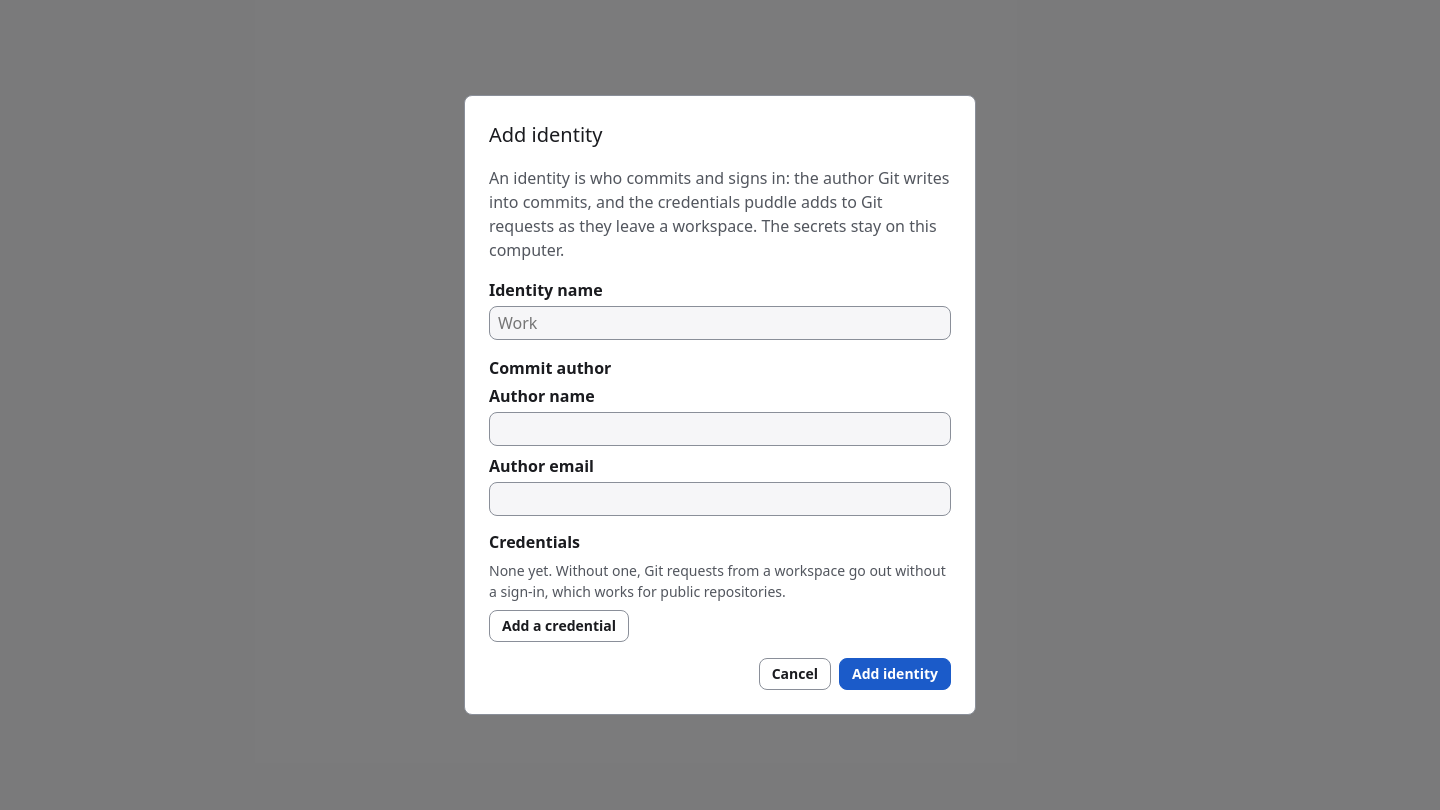
Test case: a token pasted into the dialog › is taken back when its credential is removed again
The width and height of the screenshot is (1440, 810).
Click the button "Add a credential" at (559, 626), box [489,610,629,642]
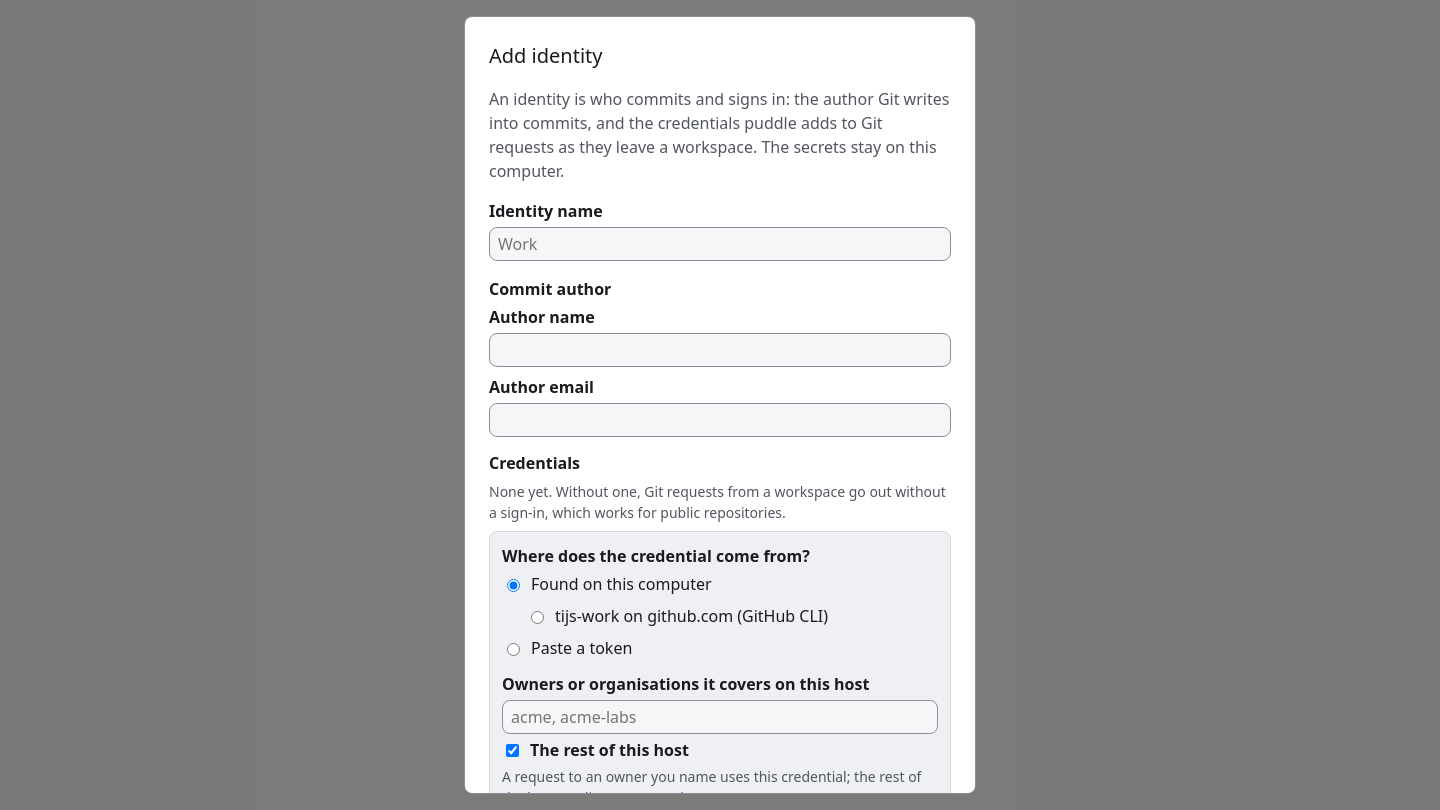
Click the radio button labelled "Paste a token" at (514, 650), box [507,643,520,656]
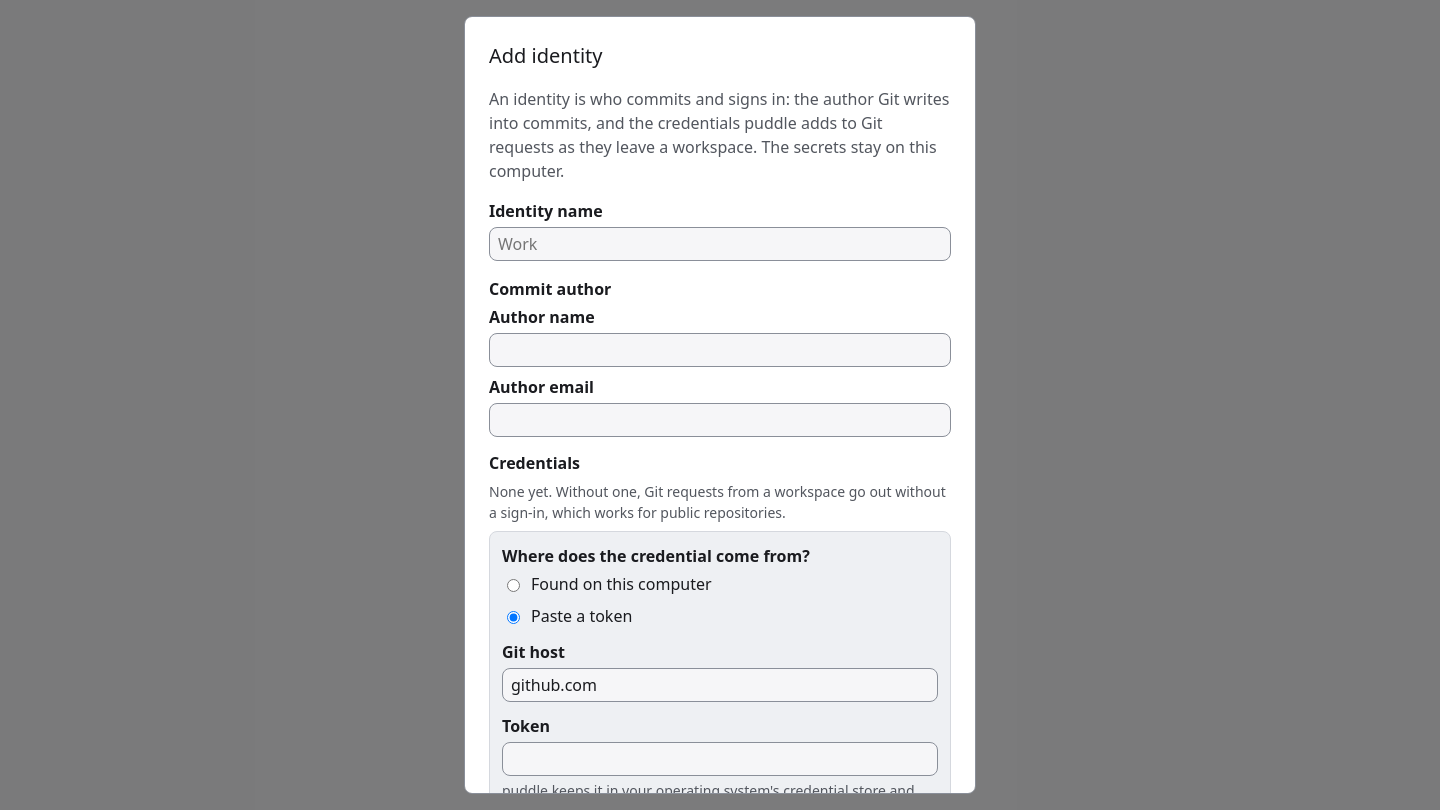
Type "ghp_x" into the password field labelled "Token" at (720, 759), box [502,742,938,776]
(page scrolled)
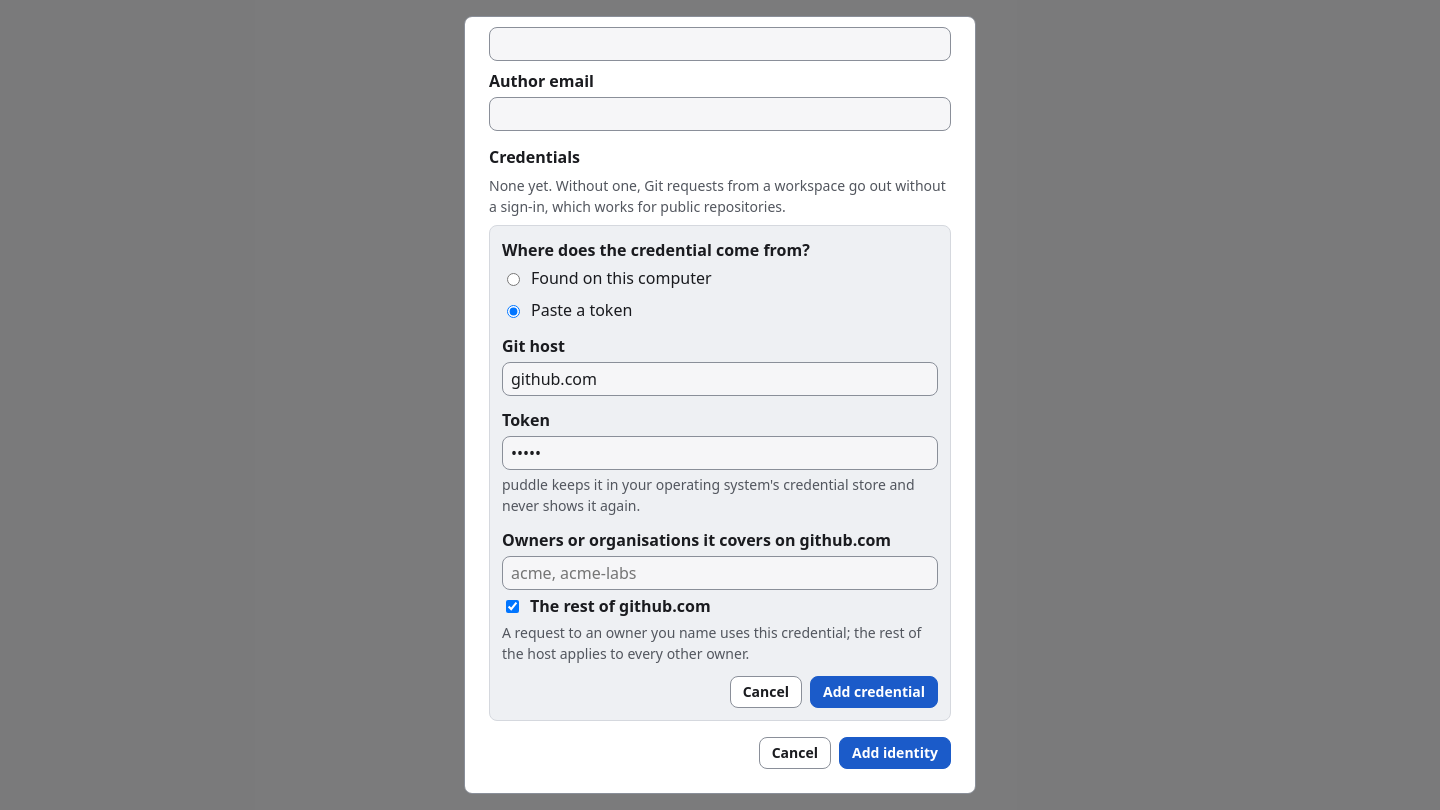
Click the button "Add credential" at (874, 692), box [810,676,938,708]
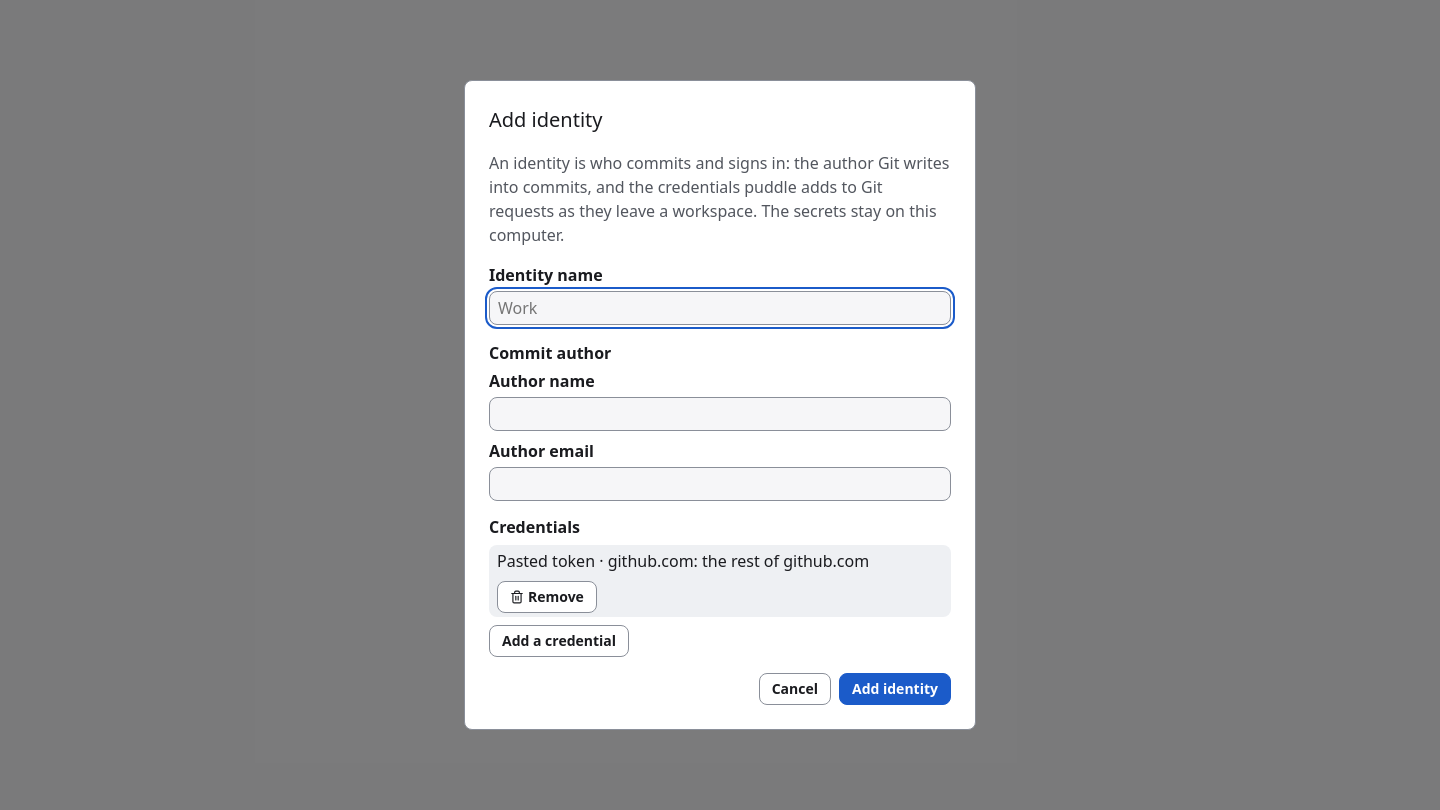
expect the button with aria-label "Remove Pasted token" is shown: met
Click the button with aria-label "Remove Pasted token" at (547, 597), box [497,581,597,613]
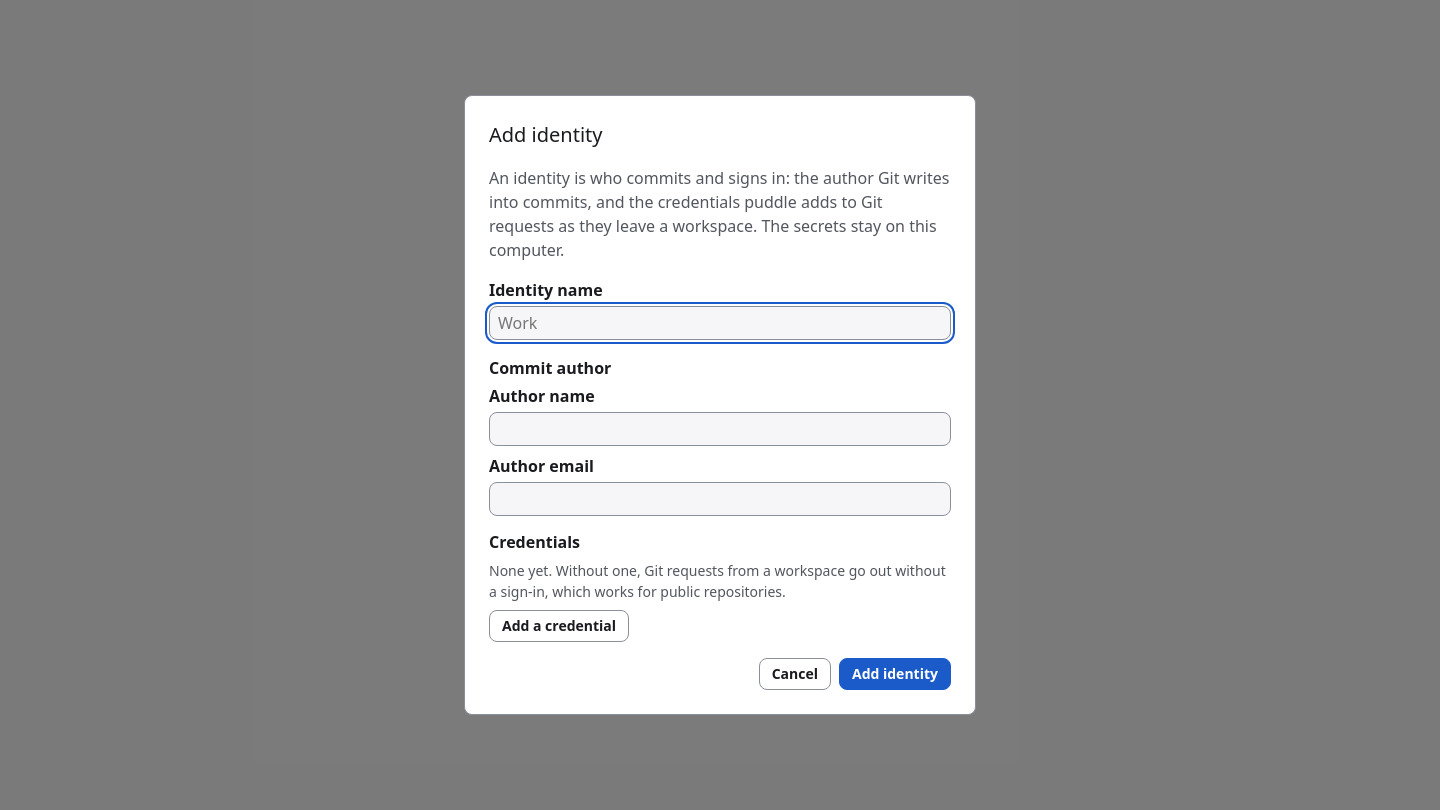
expect the text "None yet" is shown: met, box [489,561,946,601]
